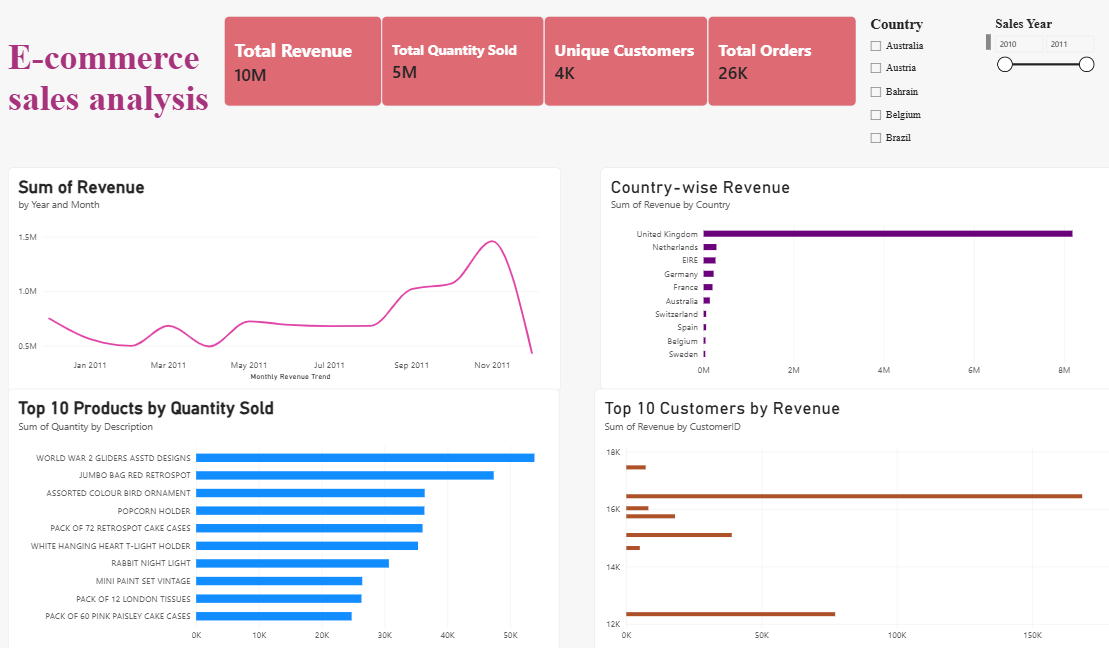

Layout of this report page (visuals, bound fields, positions):
{"tool":"powerbi","page":{"name":"Page 1","canvas":[1920,1080],"ordinal":0},"visuals":[{"type":"lineChart","fields":{"Category":["Copy of Online Retail.InvoiceDate.Variation.Date Hierarchy.Year","Copy of Online Retail.InvoiceDate.Variation.Date Hierarchy.Month"],"Y":["Sum(Copy of Online Retail.Revenue)"]},"box":[25,275,910,368],"z":0},{"type":"clusteredBarChart","title":"Product Quantity","fields":{"Category":["Copy of Online Retail.Description"],"Y":["Sum(Copy of Online Retail.Quantity)"]},"box":[25,640,908,438],"z":1000},{"type":"clusteredBarChart","title":"Country-wise Revenue","fields":{"Category":["Copy of Online Retail.Country"],"Y":["Sum(Copy of Online Retail.Revenue)"]},"box":[1000,275,874,366],"z":2000},{"type":"clusteredBarChart","title":"Customer Spending","fields":{"Category":["Copy of Online Retail.CustomerID"],"Y":["Sum(Copy of Online Retail.Revenue)"]},"box":[990,640,888,438],"z":3000},{"type":"textbox","box":[24,44,396,174],"z":4000},{"type":"cardVisual","title":"Tota","fields":{"Data":["Copy of Online Retail.Total Revenue"]},"box":[396,26,260,220],"z":5000},{"type":"cardVisual","fields":{"Data":["Copy of Online Retail.Total Quantity Sold"]},"box":[672,26,236,220],"z":6000},{"type":"cardVisual","fields":{"Data":["Copy of Online Retail.Unique Customers"]},"box":[928,26,250,220],"z":7000},{"type":"cardVisual","fields":{"Data":["Copy of Online Retail.Total Orders"]},"box":[1192,26,244,220],"z":8000},{"type":"slicer","fields":{"Values":["Copy of Online Retail.Country"]},"box":[1436,26,206,226],"z":9000},{"type":"slicer","fields":{"Values":["Copy of Online Retail.Sales Year"]},"box":[1642,26,174,174],"z":10000}]}

Visuals, with their boxes on the page's 1920x1080 design canvas (x1, y1, x2, y2). These are canvas units, not pixel positions in the 1109x648 screenshot, which may show the page scaled, cropped or inside an application window:
lineChart - Copy of Online Retail.InvoiceDate.Variation.Date Hierarchy.Year x Copy of Online Retail.InvoiceDate.Variation.Date Hierarchy.Month: 25 275 935 643
"Product Quantity" clusteredBarChart: 25 640 933 1078
"Country-wise Revenue" clusteredBarChart: 1000 275 1874 641
"Customer Spending" clusteredBarChart: 990 640 1878 1078
textbox: 24 44 420 218
"Tota" cardVisual: 396 26 656 246
cardVisual - Copy of Online Retail.Total Quantity Sold: 672 26 908 246
cardVisual - Copy of Online Retail.Unique Customers: 928 26 1178 246
cardVisual - Copy of Online Retail.Total Orders: 1192 26 1436 246
slicer - Copy of Online Retail.Country: 1436 26 1642 252
slicer - Copy of Online Retail.Sales Year: 1642 26 1816 200
